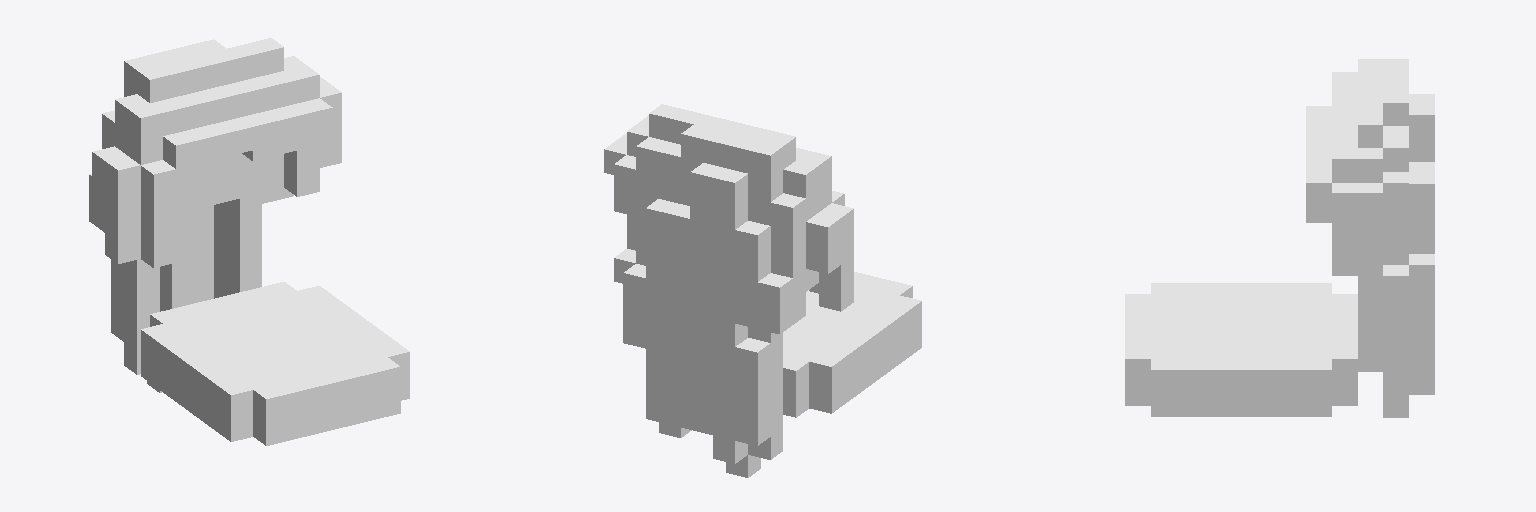
The model's file is Chair_Top.obj.
3 renders of one model, left to right at view 1: azimuth 30°, elevation 25°; view 2: azimuth 150°, elevation 25°; view 3: azimuth 270°, elevation 25°, orthographic.
Parts seen in each view (by area): view 1: object 1; view 2: object 1; view 3: object 1.
Boxes of the visible parts, <box> form: object 1: <box>89,38,409,445</box>; object 1: <box>604,104,921,477</box>; object 1: <box>1125,59,1434,417</box>.
Size of the model in its own units: 1 by 1.4 by 1.2.